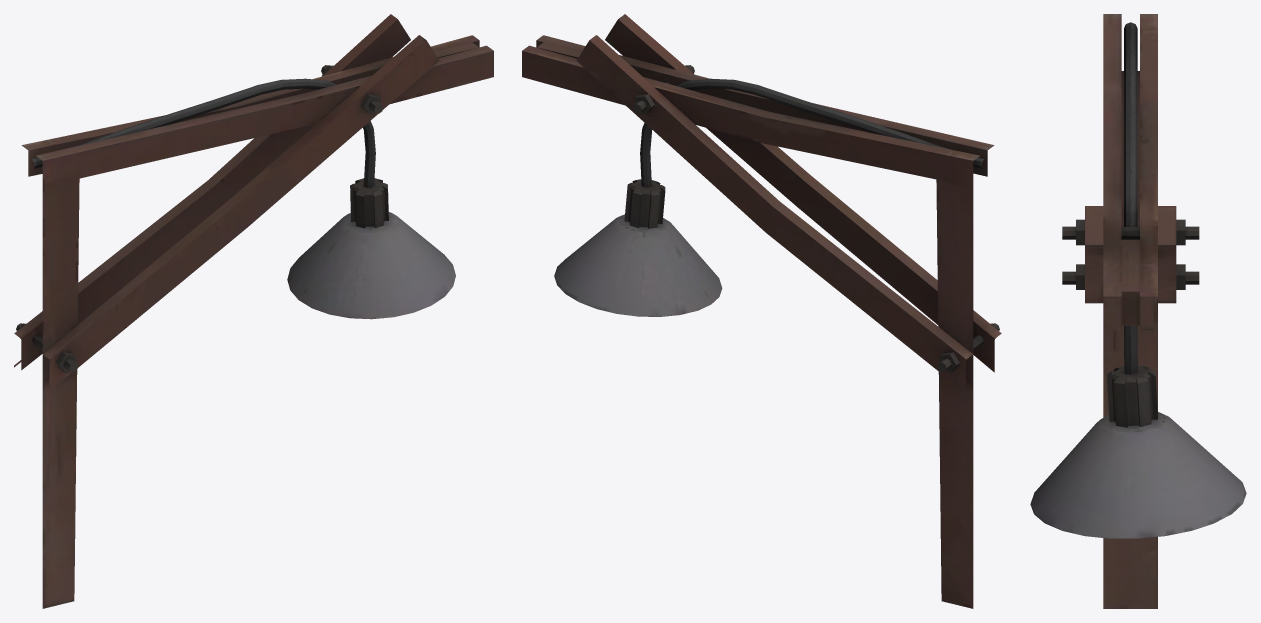
The picture shows the model from 3 angles, left to right: view 1: azimuth 30°, elevation 25°; view 2: azimuth 150°, elevation 25°; view 3: azimuth 270°, elevation 25°; orthographic projection. The views are drawn at different scales.
Parts seen in each view (by area): view 1: body0_model0_lod0_mesh0; view 2: body0_model0_lod0_mesh0; view 3: body0_model0_lod0_mesh0.
Boxes of the visible parts, x1,y1,x2,y2 form: body0_model0_lod0_mesh0: (14, 14, 493, 608); body0_model0_lod0_mesh0: (522, 14, 1001, 608); body0_model0_lod0_mesh0: (1030, 14, 1246, 608).
Bounding box in the file's own units: 110 × 112 × 35.53.
1 material, 1 textured.
